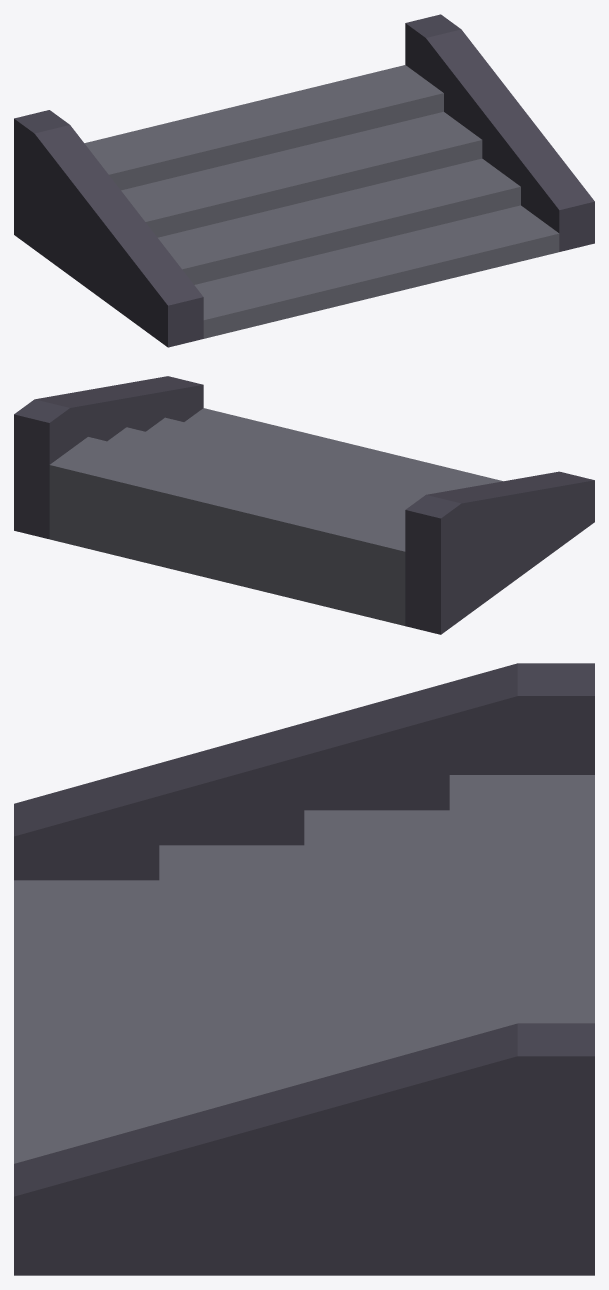
The model's file is stairs_short.fbx.
3 views of the same model, one above another, from view 1: azimuth 30°, elevation 25°; view 2: azimuth 150°, elevation 25°; view 3: azimuth 270°, elevation 25° (orthographic). The views are drawn at different scales.
Parts seen in each view (by area): view 1: stairs_short; view 2: stairs_short; view 3: stairs_short.
Boxes of the visible parts, x1,y1,x2,y2 form: stairs_short: (14, 14, 594, 347); stairs_short: (14, 376, 594, 634); stairs_short: (14, 663, 594, 1275).
Bounding box in the file's own units: 4.8 × 1.25 × 3.
